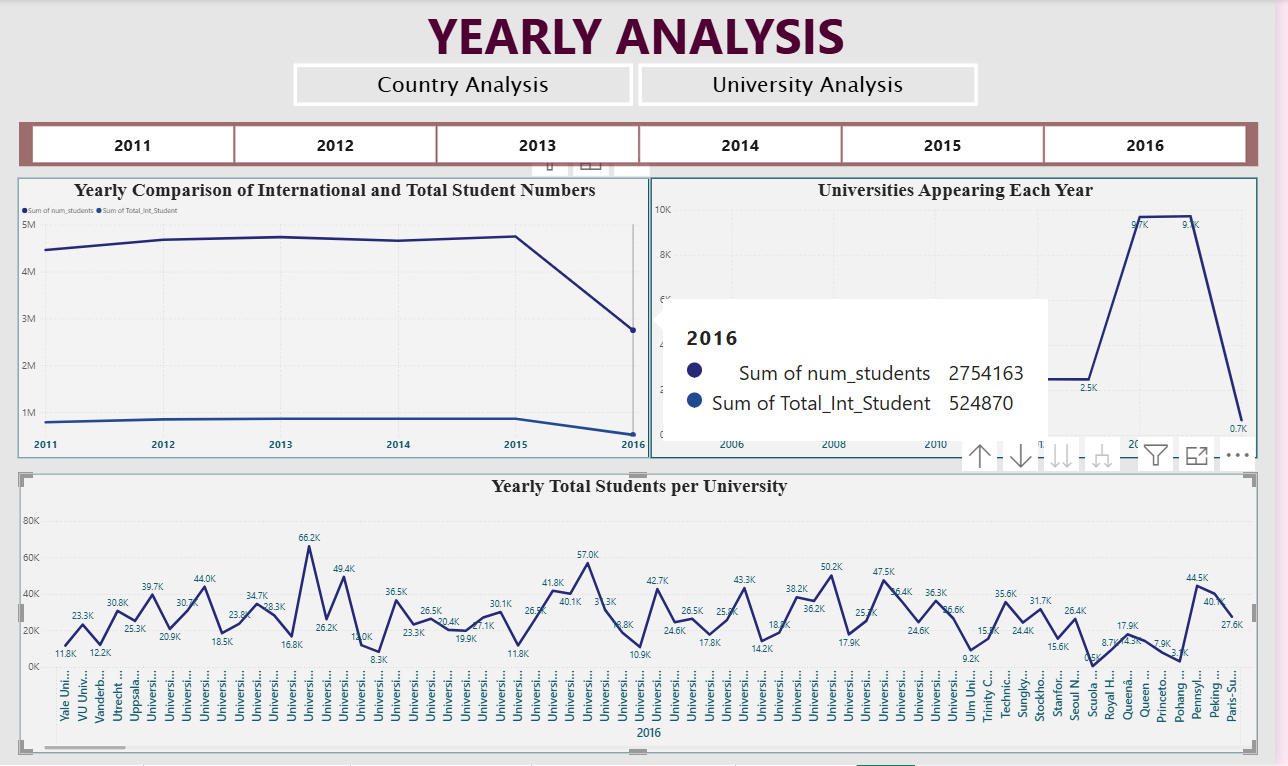

The dashboard page shown, as its layout file describes it:
{"tool":"powerbi","page":{"name":"Yearly Analysis","canvas":[2500,1500],"ordinal":2},"visuals":[{"type":"lineChart","title":"Yearly Total Students per University","fields":{"Category":["university_year.year","university.university_name"],"Y":["Sum(university_year.num_students)"]},"box":[40,927.5,2425,550],"z":0},{"type":"lineChart","title":"Yearly Comparison of International and Total Student Numbers","fields":{"Category":["university_year.year"],"Y":["Sum(university_year.num_students)","Sum(university_year.Total_Int_Student)"]},"box":[39.1,348.4,1237.4,550.3],"z":1000},{"type":"textbox","box":[831.6,0,836.8,166.1],"z":2000},{"type":"slicer","fields":{"Values":["university_year.year"]},"box":[40,240,2426.7,86.7],"z":3000},{"type":"pageNavigator","box":[580,126.7,1340,83.3],"z":4000},{"type":"lineChart","title":"Universities Appearing Each Year","fields":{"Category":["university_ranking_year.year"],"Y":["CountNonNull(university_ranking_year.university_id)"]},"box":[1276.4,348.4,1188.5,550.3],"z":6000}]}

Visuals, with their boxes in screenshot pixels (x1, y1, x2, y2), scaled from the page's 2500x1500 canvas onto the 1288x766 screenshot:
"Yearly Total Students per University" lineChart: crop(21, 474, 1270, 755)
"Yearly Comparison of International and Total Student Numbers" lineChart: crop(20, 178, 658, 459)
textbox: crop(428, 0, 860, 85)
slicer - university_year.year: crop(21, 123, 1271, 167)
pageNavigator: crop(299, 65, 989, 107)
"Universities Appearing Each Year" lineChart: crop(658, 178, 1270, 459)
